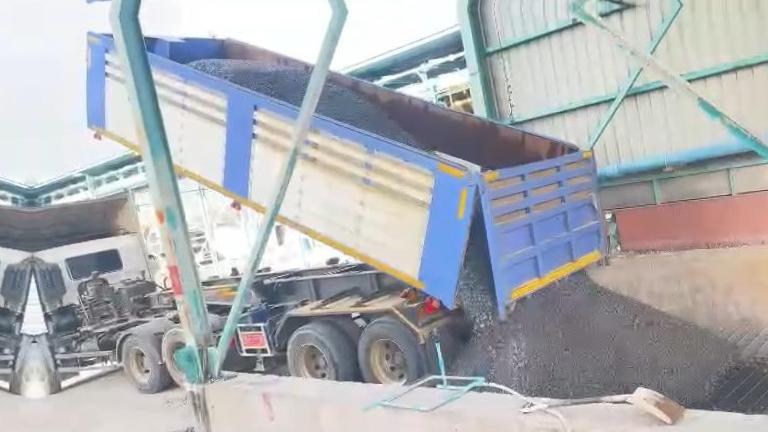gravel: (453, 203, 736, 404), (319, 80, 425, 149), (188, 60, 312, 106), (101, 428, 217, 432)
